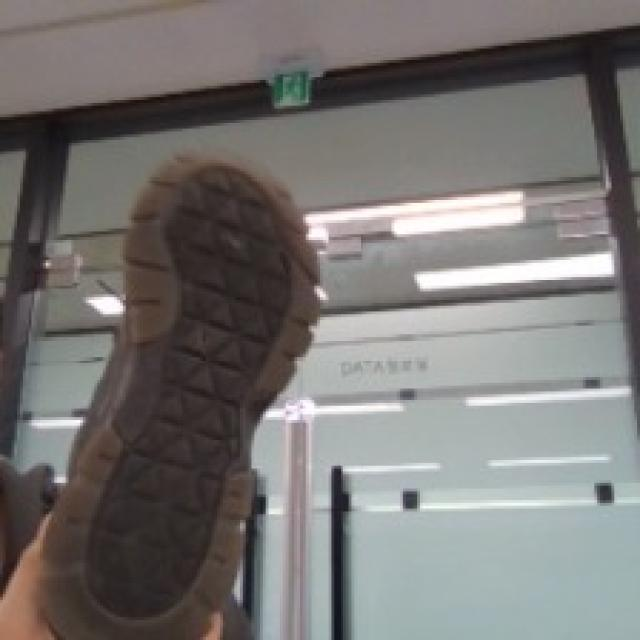shoe: (16, 122, 347, 624)
